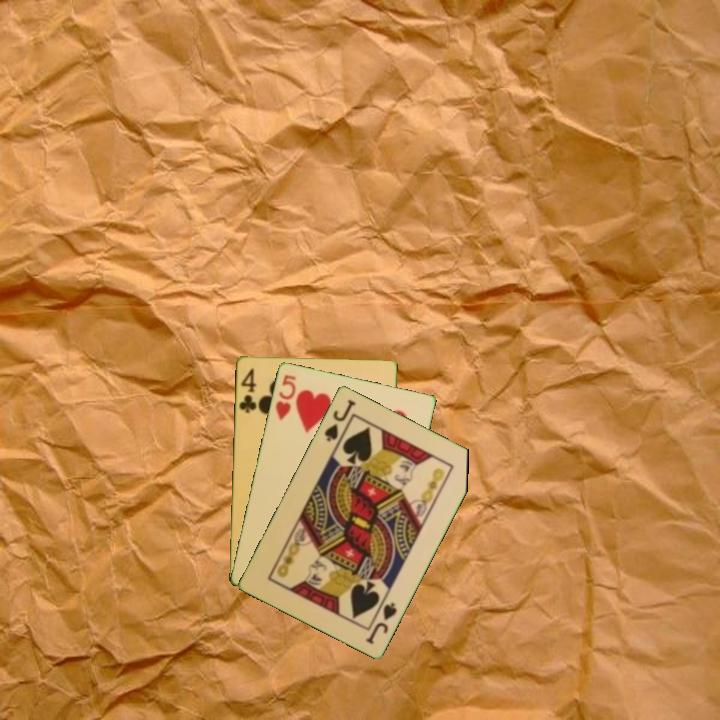4c: (235, 364, 259, 416)
5h: (272, 371, 299, 423)
Js: (362, 594, 400, 646), (321, 395, 359, 444)
